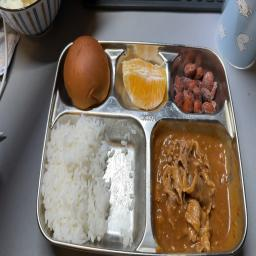100_bread: (60, 36, 111, 107)
100_nuts: (172, 57, 219, 115)
100_orange: (119, 49, 168, 110)
50_rice: (46, 114, 142, 246)
75_beef: (151, 127, 232, 250)
